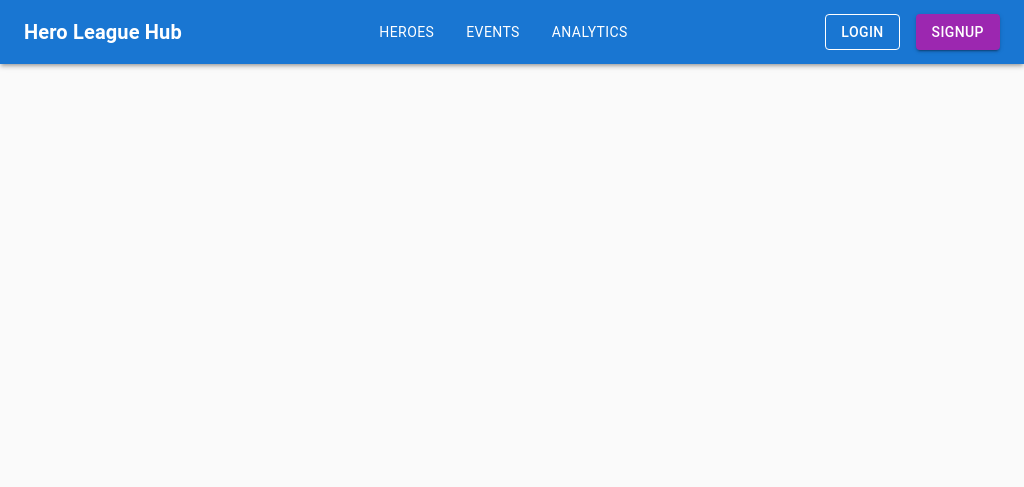
Test case: Navbar › navigates to login and signup pages
The image size is (1024, 487).
What coordinates should you click on to do the following:
click the link "Login"
I would click on:
 (862, 32)
Its box is [825, 14, 900, 50].
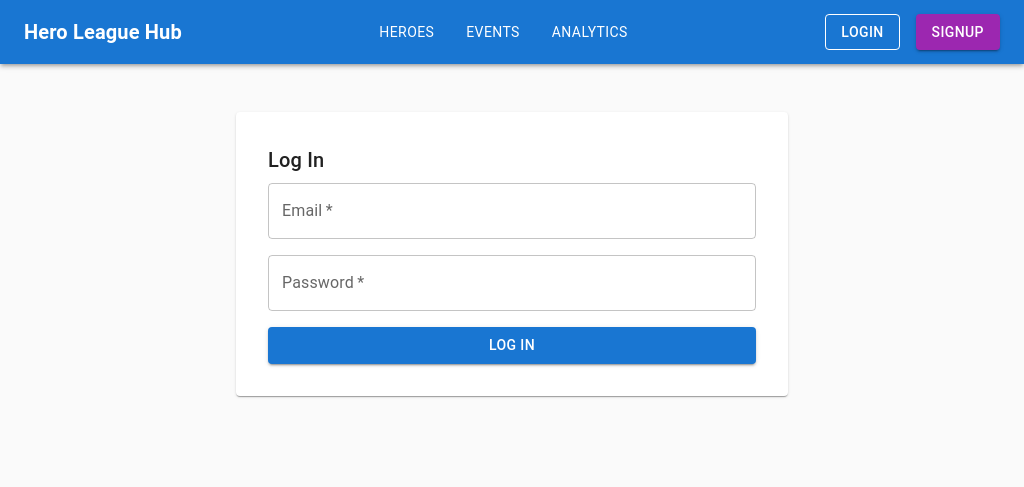
Check: the button "Log In" is shown, box [268, 327, 756, 364]
What coordinates should you click on to do the following:
click the link "Signup"
I would click on:
 (958, 32)
Its box is [916, 14, 1000, 50].
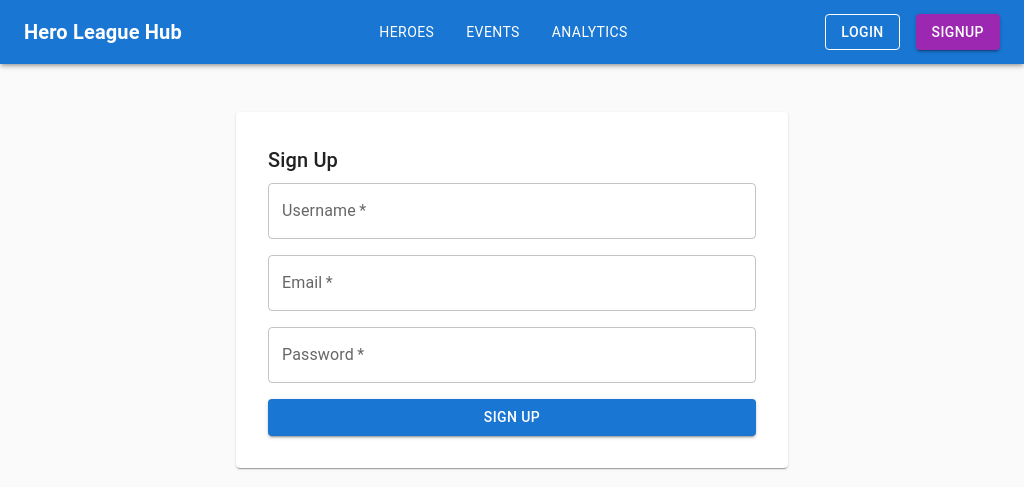
Check: the button "Sign Up" is shown, box [268, 399, 756, 436]
